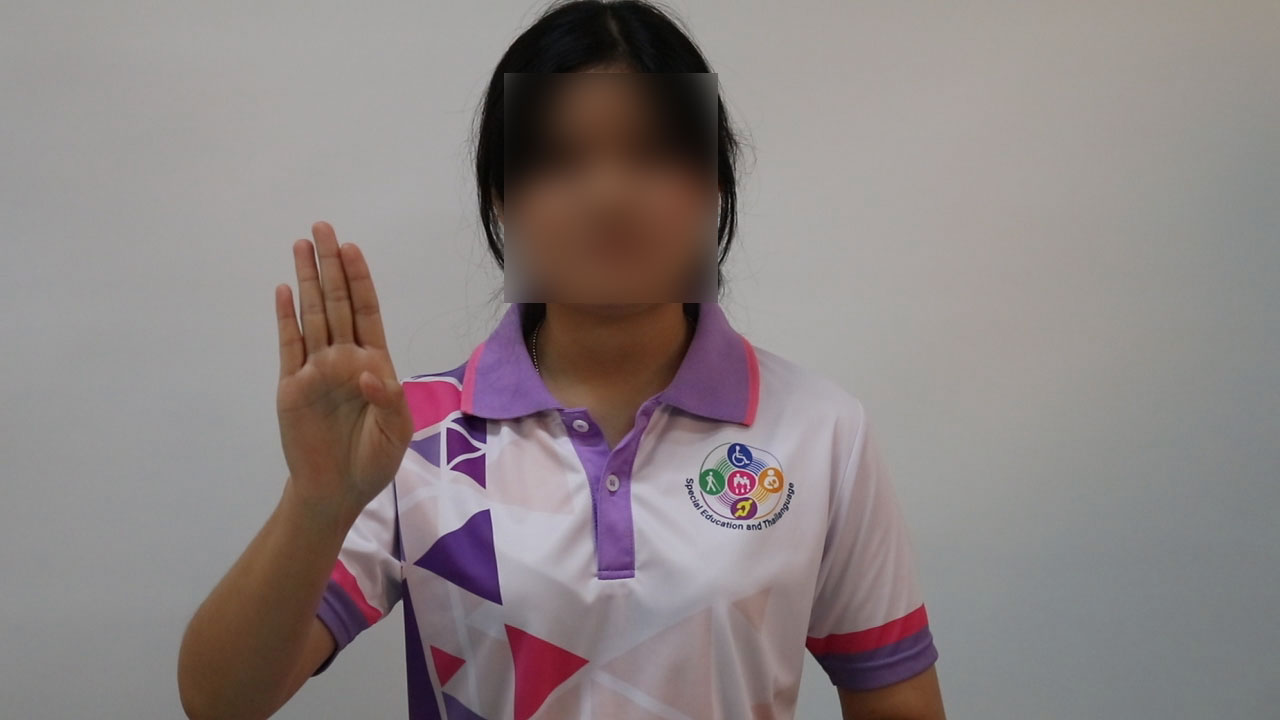bor: (247, 213, 435, 527)
